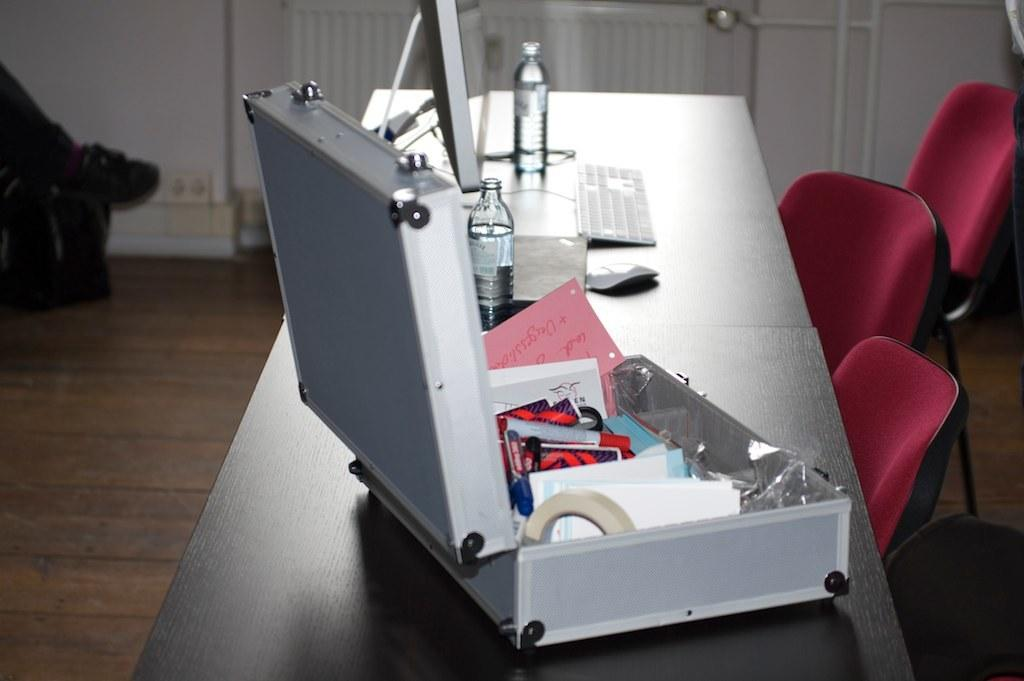Computer-keyboard: (575, 161, 656, 247)
Computer-monitor: (362, 0, 486, 193)
Computer-mouse: (584, 261, 660, 294)
